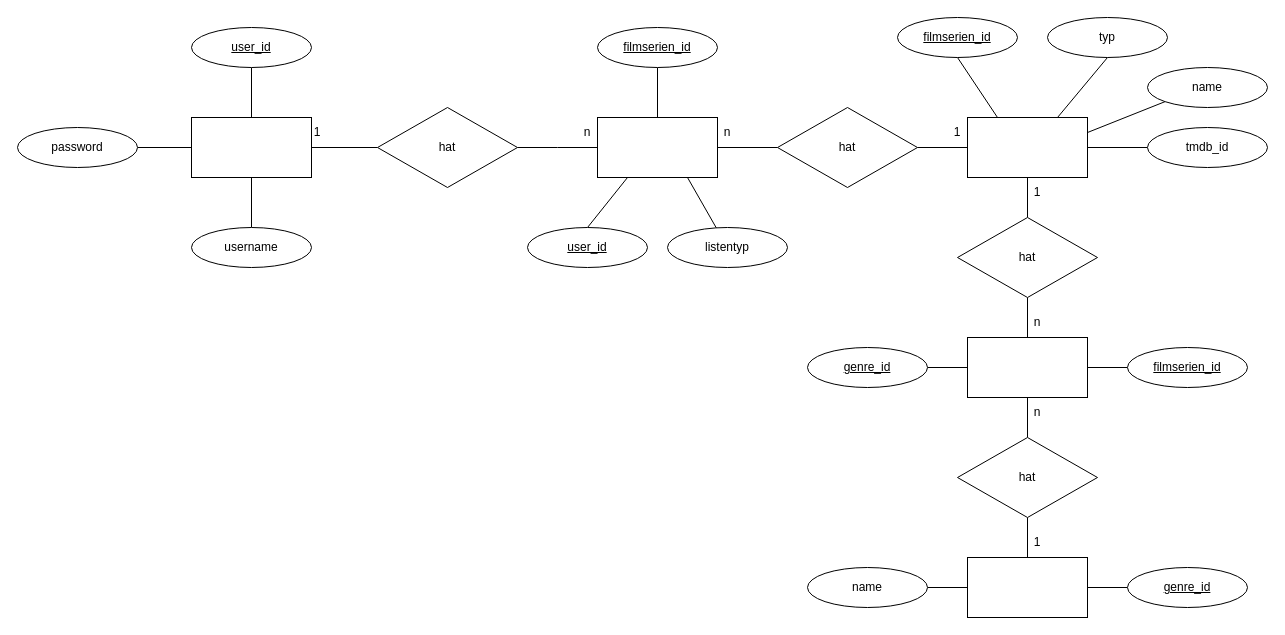
This 1285x635 diagram has some shape labels left out. Each missing label, with the centre of its shape:
FilmeSerien: point (1027, 147)
FilmeSerienGenre: point (1027, 367)
Genre: point (1027, 587)
User: point (251, 147)
UserFilmeSerien: point (657, 147)
